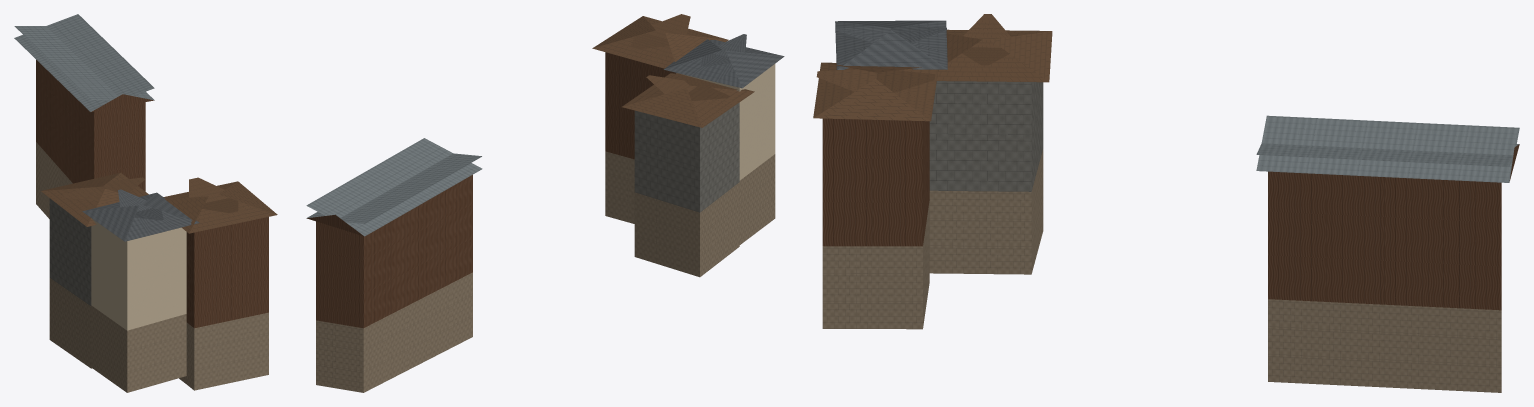
The model's file is bld_c10_26_403.gltf.
3 views of the same model, side by side, from view 1: azimuth 30°, elevation 25°; view 2: azimuth 150°, elevation 25°; view 3: azimuth 270°, elevation 25° (orthographic). The views are drawn at different scales.
Visible parts, largest first — view 1: bld_c10_26_403; view 2: bld_c10_26_403; view 3: bld_c10_26_403.
Part boxes in pixels (bbox=[...]): bld_c10_26_403: bbox=[14, 14, 277, 392]; bld_c10_26_403: bbox=[306, 14, 784, 392]; bld_c10_26_403: bbox=[813, 14, 1519, 392].
Bounding box in the file's own units: 18.15 × 15.9 × 39.49.
8 materials, 8 textured.
